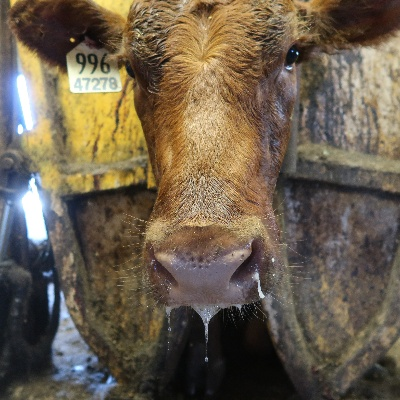fidget_spinner: (142, 221, 267, 308)
